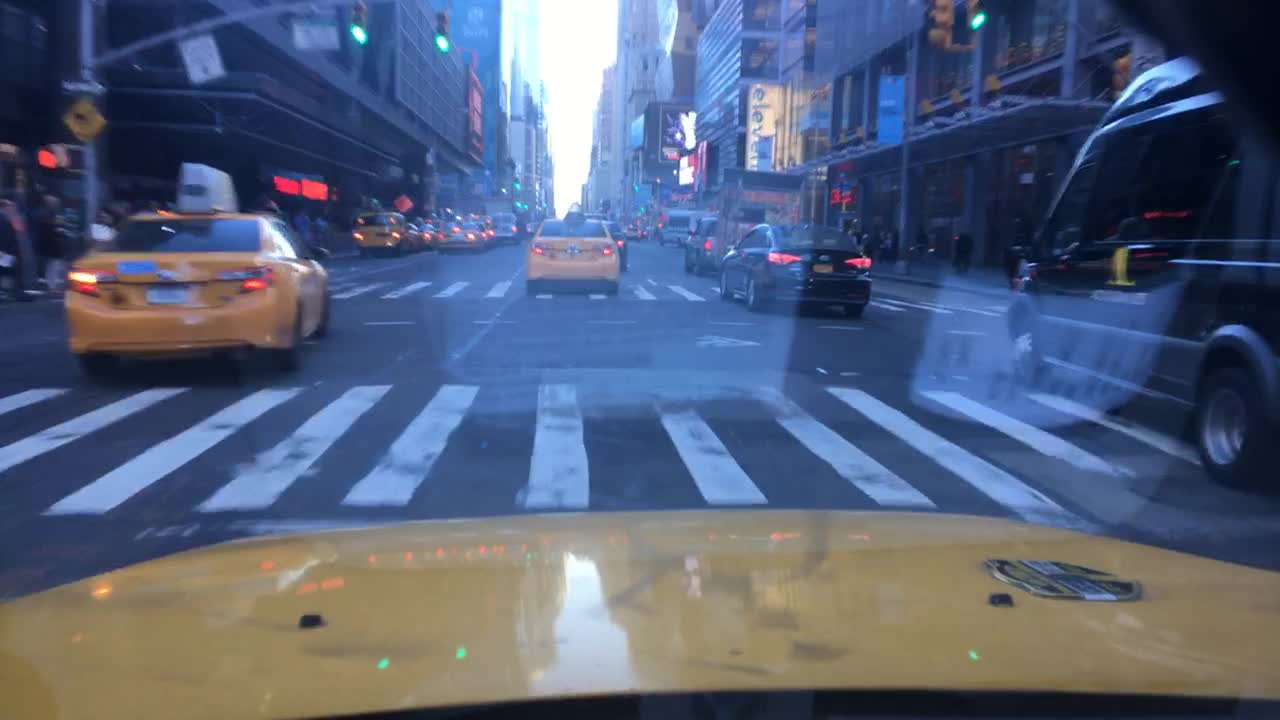car: (1000, 51, 1279, 500), (57, 157, 329, 383), (716, 218, 877, 320), (522, 203, 627, 299), (351, 209, 413, 258), (654, 208, 716, 249), (679, 215, 719, 277), (436, 218, 489, 255), (604, 218, 633, 273), (490, 211, 522, 245), (405, 220, 428, 254), (475, 219, 498, 250), (416, 222, 439, 250), (623, 222, 641, 240), (583, 210, 610, 219), (523, 219, 539, 233), (639, 227, 650, 239)
person: (45, 198, 88, 294), (30, 190, 61, 286), (0, 195, 22, 300), (1002, 215, 1028, 289), (951, 226, 975, 274), (874, 226, 896, 265), (293, 207, 315, 243), (913, 226, 932, 265), (310, 212, 331, 245), (94, 205, 121, 229), (138, 196, 165, 212), (113, 196, 130, 220)
traffic light: (956, 0, 986, 52), (1107, 52, 1133, 105), (928, 0, 955, 49), (36, 141, 74, 171), (349, 0, 370, 47), (435, 9, 451, 51), (510, 175, 522, 190), (630, 179, 641, 192)
traffic sign: (177, 29, 228, 87), (60, 98, 107, 141), (289, 12, 341, 49), (61, 78, 106, 95), (393, 193, 415, 214)
truck: (711, 165, 803, 273)
